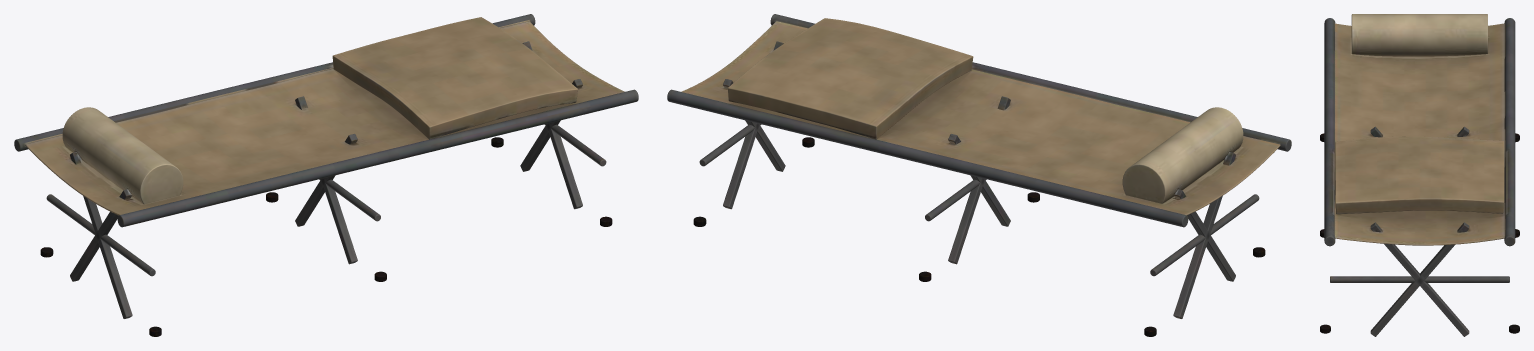
Rendered from cot.glb.
The picture shows the model from 3 angles, left to right: view 1: azimuth 30°, elevation 25°; view 2: azimuth 150°, elevation 25°; view 3: azimuth 270°, elevation 25°; orthographic projection. The views are drawn at different scales.
Visible parts, largest first — view 1: cot; view 2: cot; view 3: cot.
Part boxes in pixels (<box>): cot: <box>14,14,638,336</box>; cot: <box>667,14,1291,336</box>; cot: <box>1320,14,1519,336</box>.
Size of the model in its own units: 1.9 by 0.5571 by 0.7326.
1 material, 1 textured.
